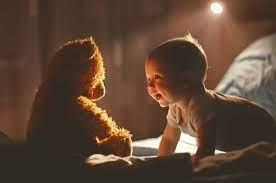child: (125, 34, 276, 163)
